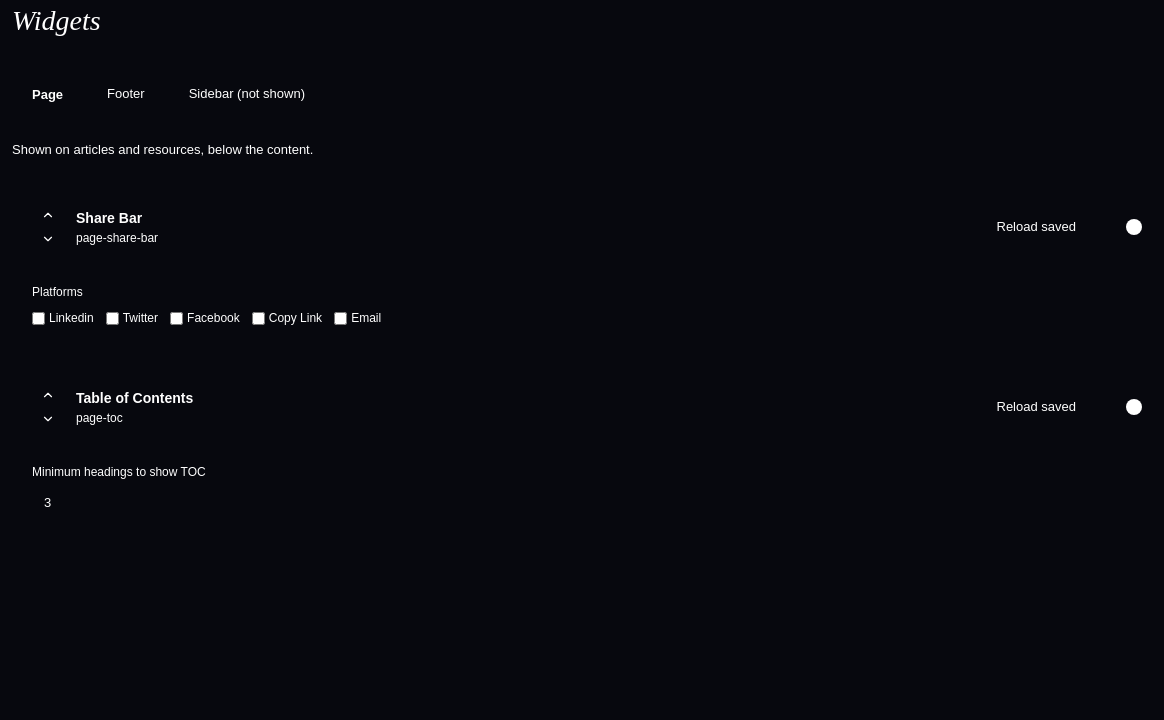
Test: WidgetsManager › releases reorder controls even when the following refresh stalls
Later steps or results of the test are not shown.
Click the button named "Move Share Bar down" at (48, 239), box [32,227,64,251]
Wait 15002 ms
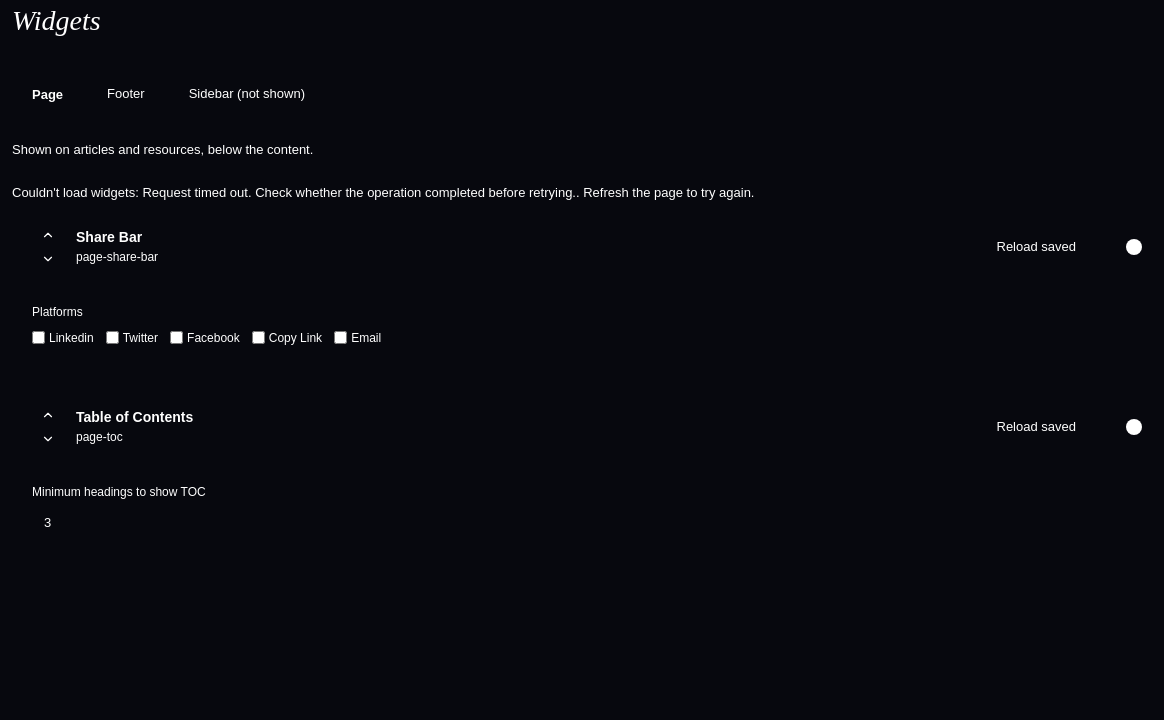
Expected: the button named "Move Share Bar down" is enabled, [32,246,64,270]
Now the message shows "Couldn't load widgets", box [12,185,142,200]
